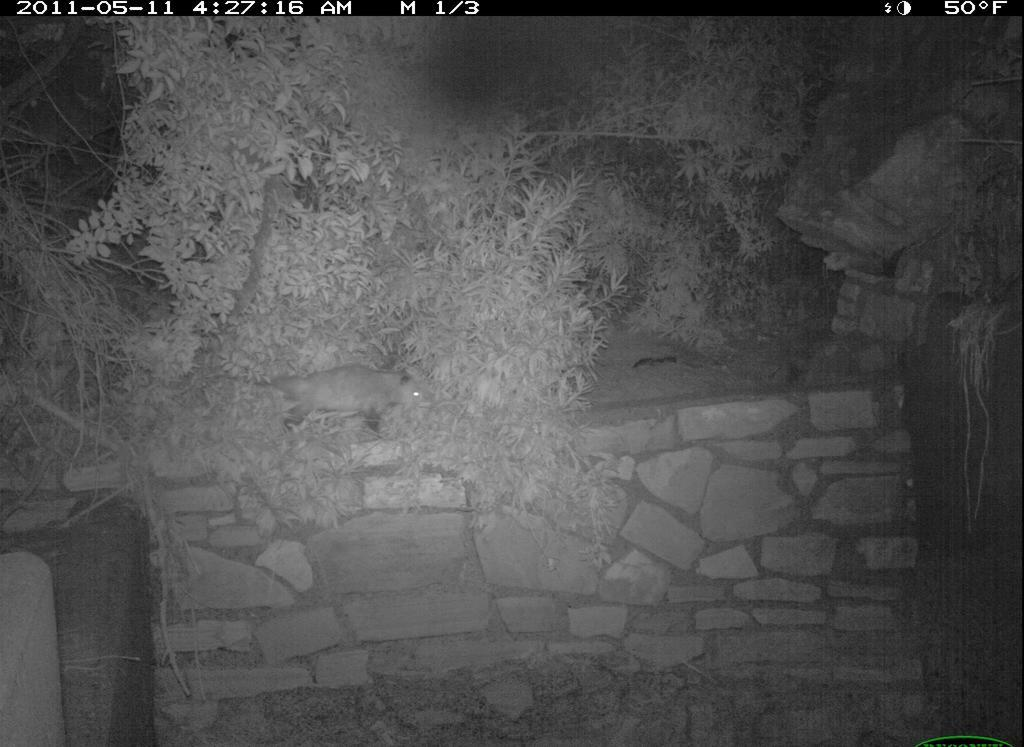opossum: (246, 353, 438, 443)
